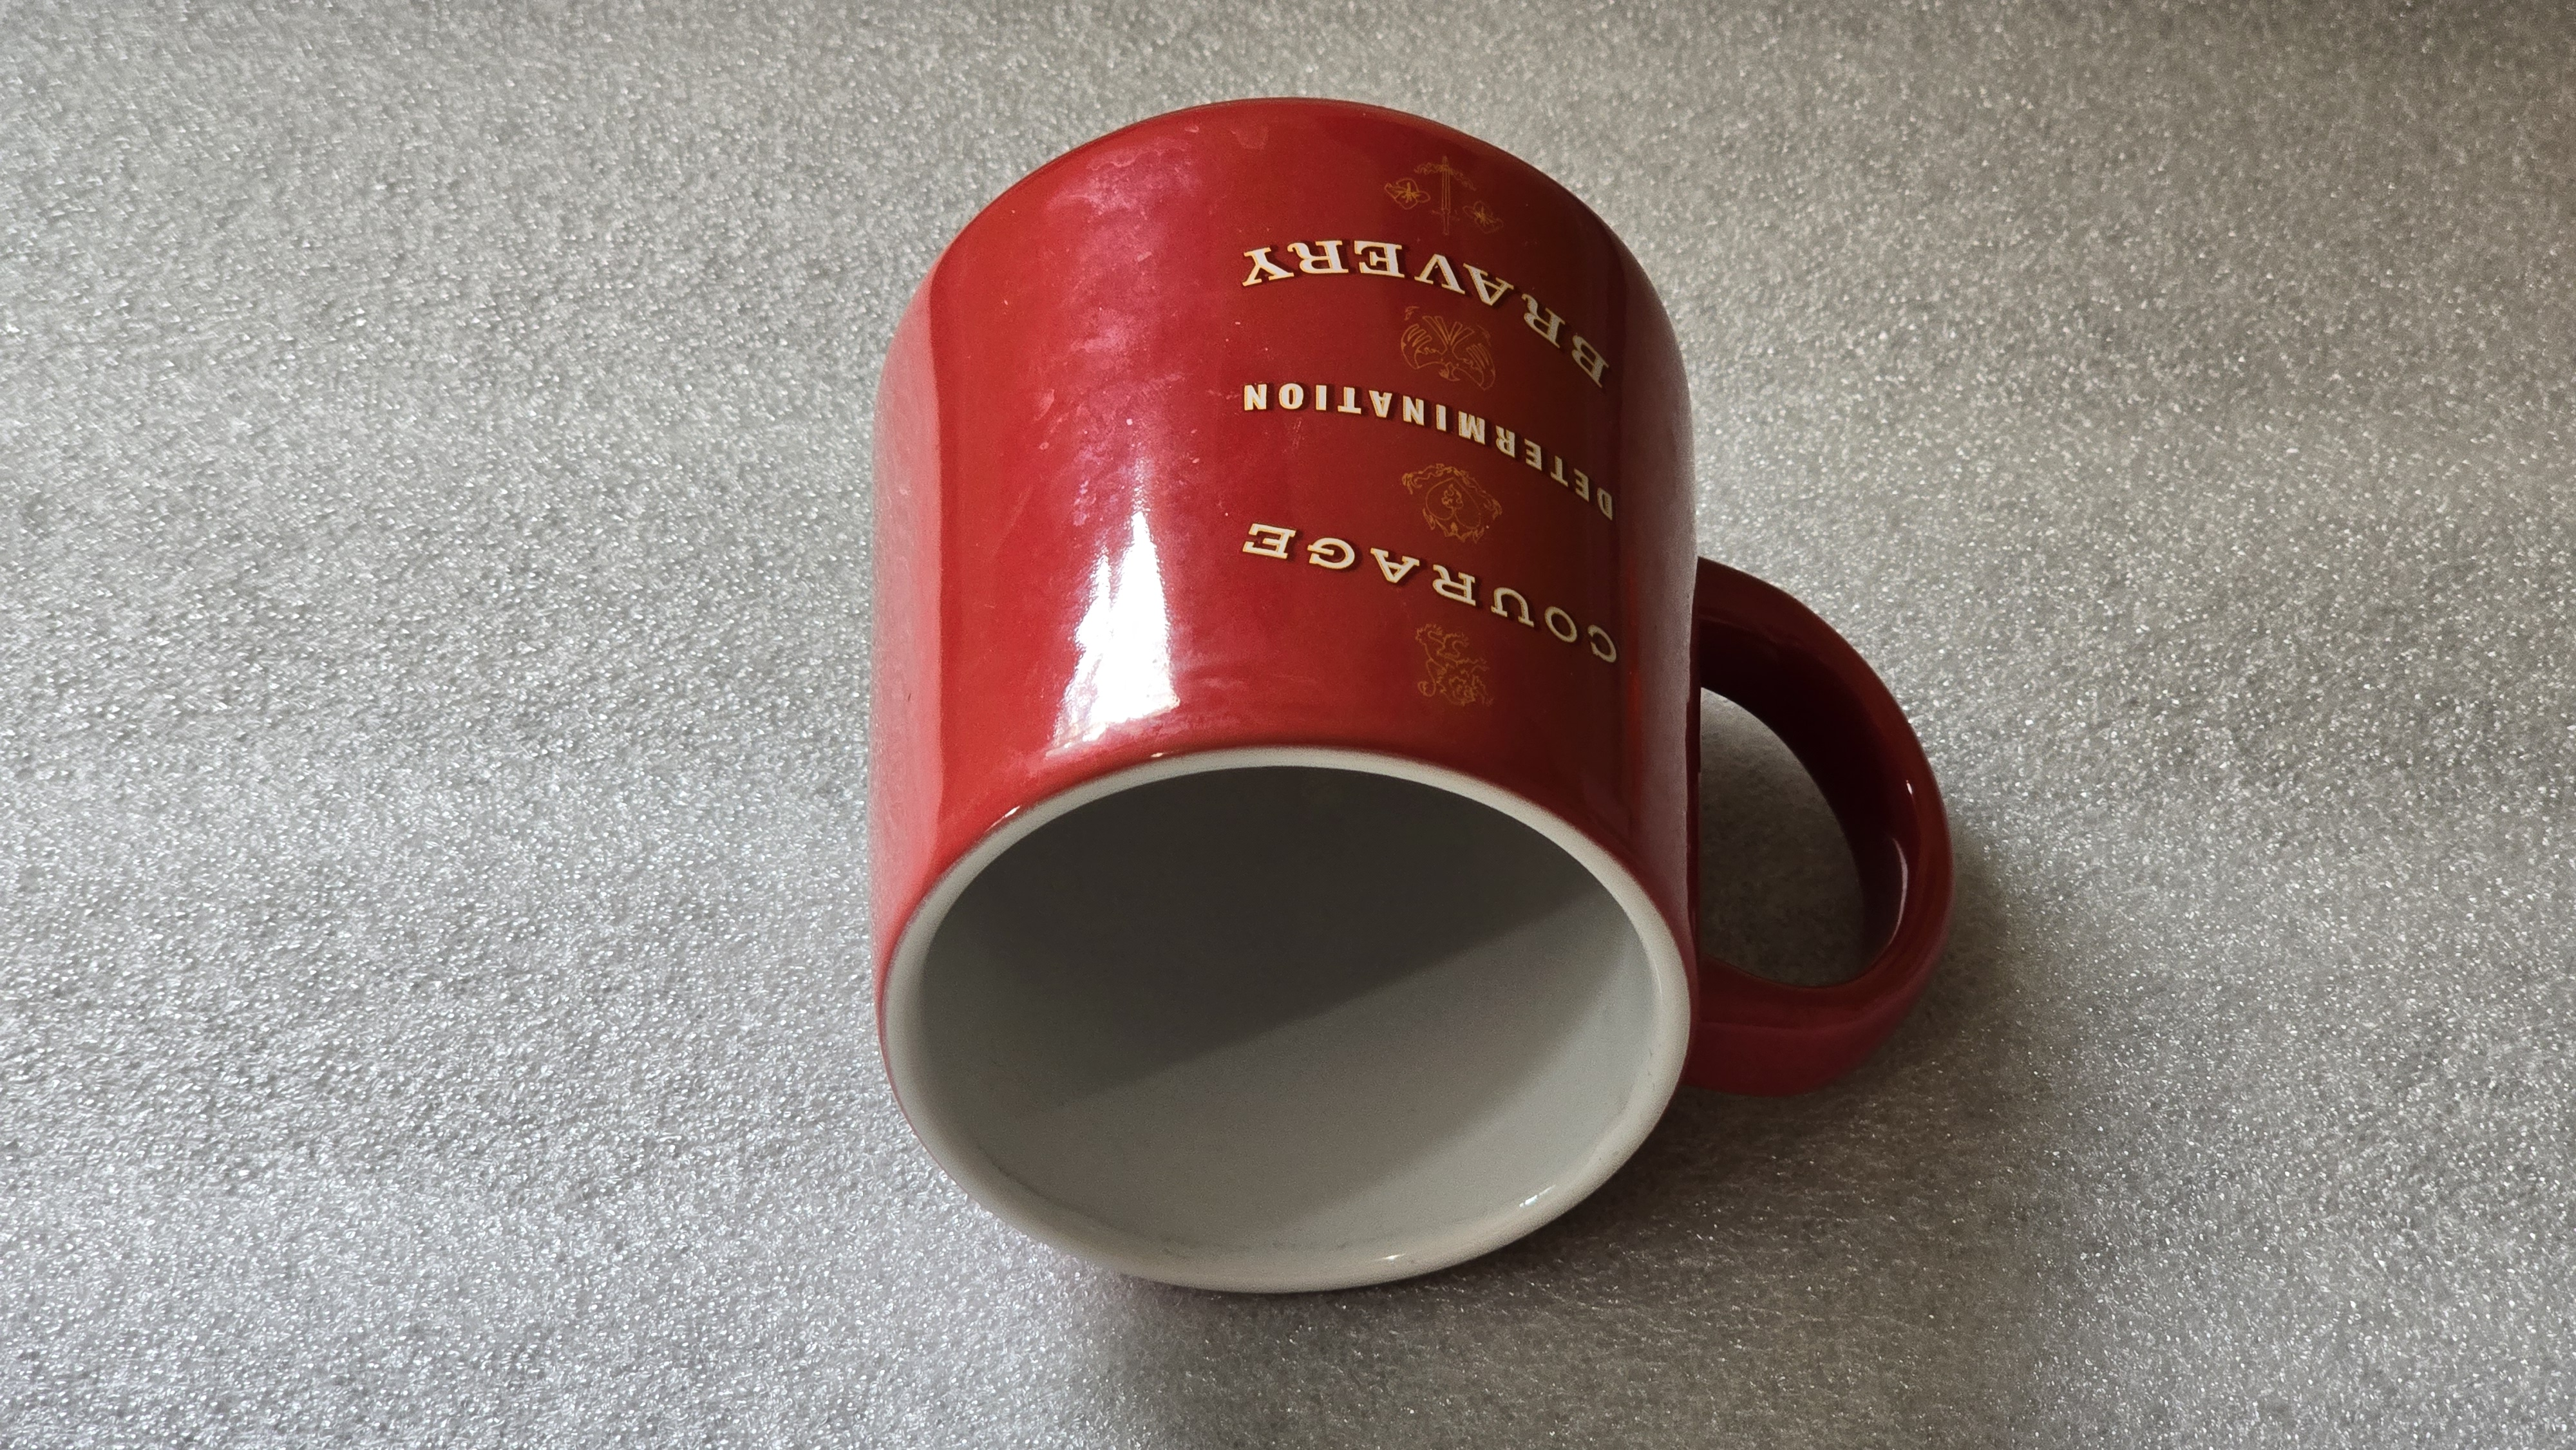mug: (847, 72, 2008, 1314)
